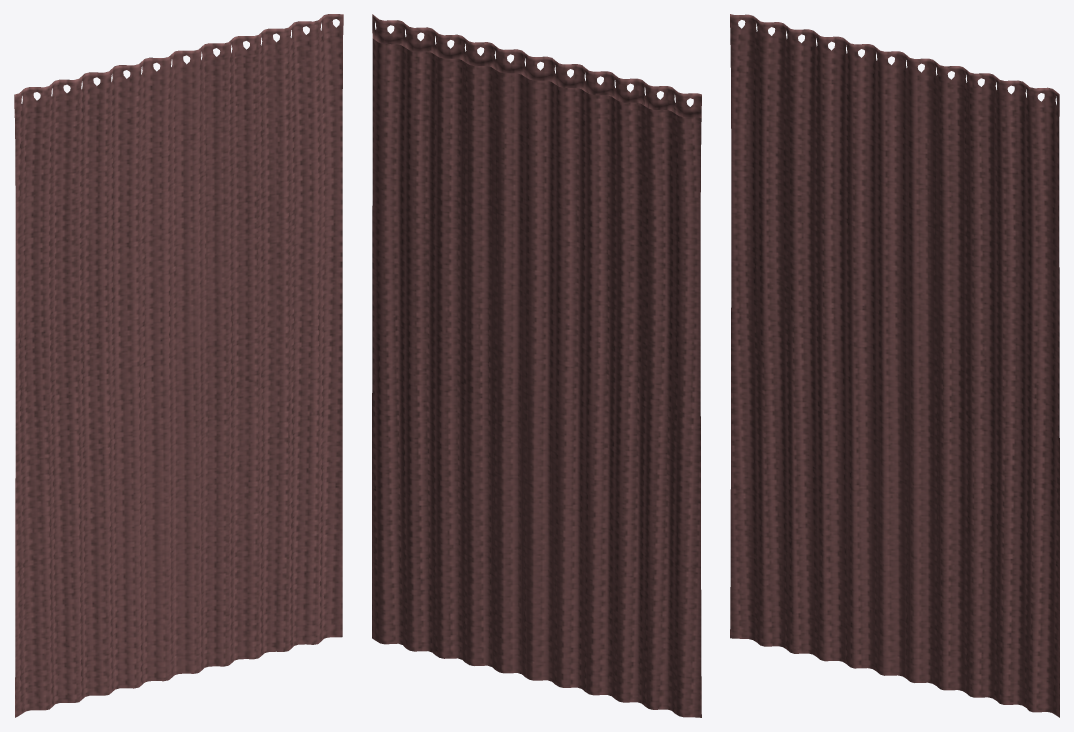
The model's file is curtain1.glb.
3 renders of one model, left to right at view 1: azimuth 30°, elevation 25°; view 2: azimuth 150°, elevation 25°; view 3: azimuth 330°, elevation 25°, orthographic.
Parts seen in each view (by area): view 1: Curtain1; view 2: Curtain1; view 3: Curtain1.
Boxes of the visible parts, x1=… form: Curtain1: x1=14, y1=14, x2=343, y2=717; Curtain1: x1=372, y1=14, x2=701, y2=717; Curtain1: x1=730, y1=14, x2=1059, y2=717.
Size of the model in its own units: 1.12 by 2.02 by 0.0264.
1 material, 1 textured.
